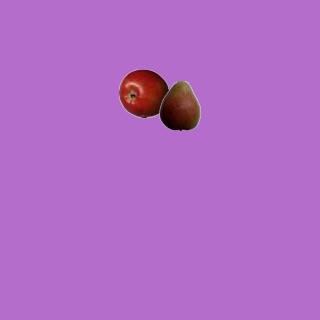Apple Braeburn: (118, 68, 168, 118)
Pear Forelle: (154, 80, 204, 130)
